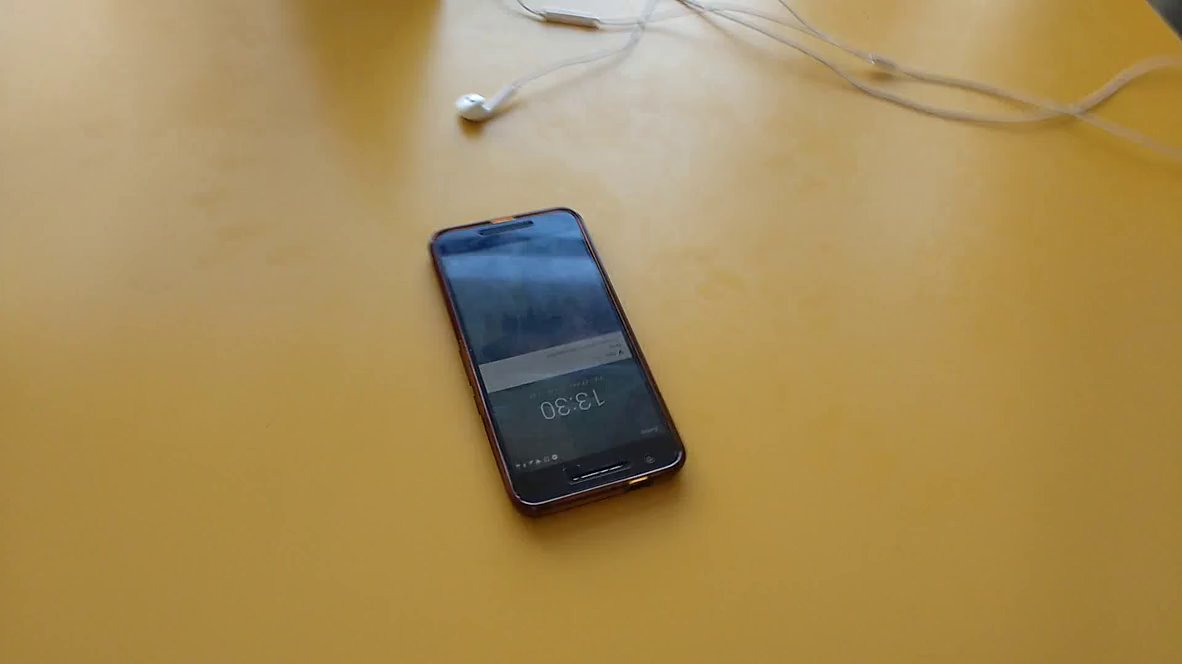phone: (419, 195, 702, 535)
